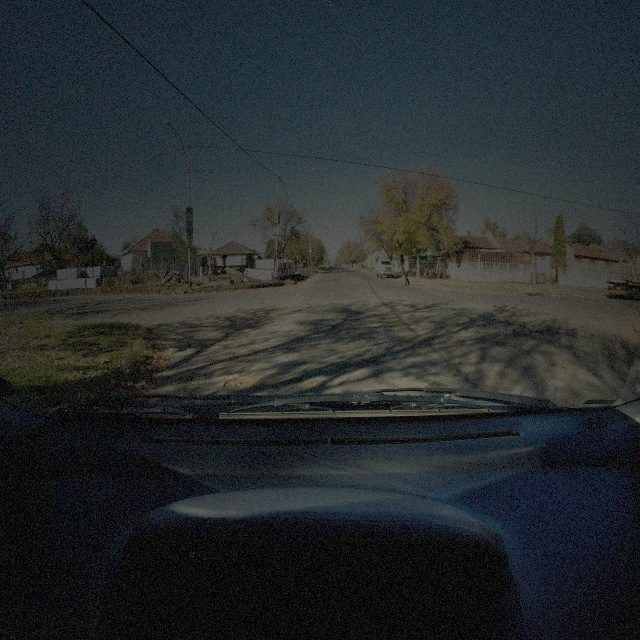pothole: (222, 370, 258, 394), (190, 371, 209, 385), (382, 314, 398, 323), (552, 363, 566, 372)
